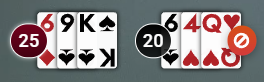4: (181, 10, 202, 34)
6: (160, 12, 181, 33), (36, 12, 56, 32)
9: (55, 11, 76, 34)
k: (76, 11, 98, 34)
q: (200, 11, 225, 37)
